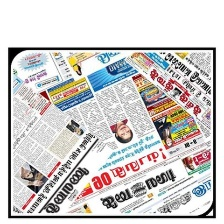news_paper: (10, 49, 213, 214), (9, 67, 114, 215), (122, 49, 216, 136)
